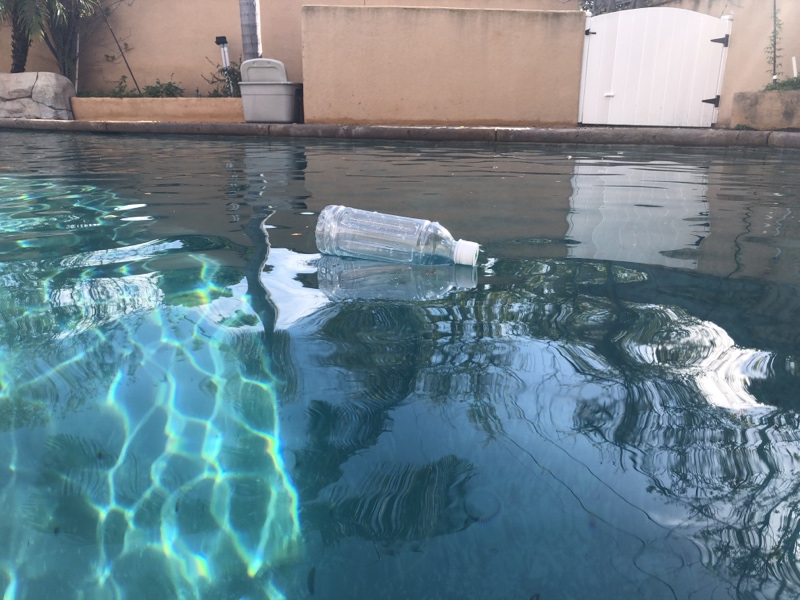Plastic Bottle: (313, 198, 483, 273)
